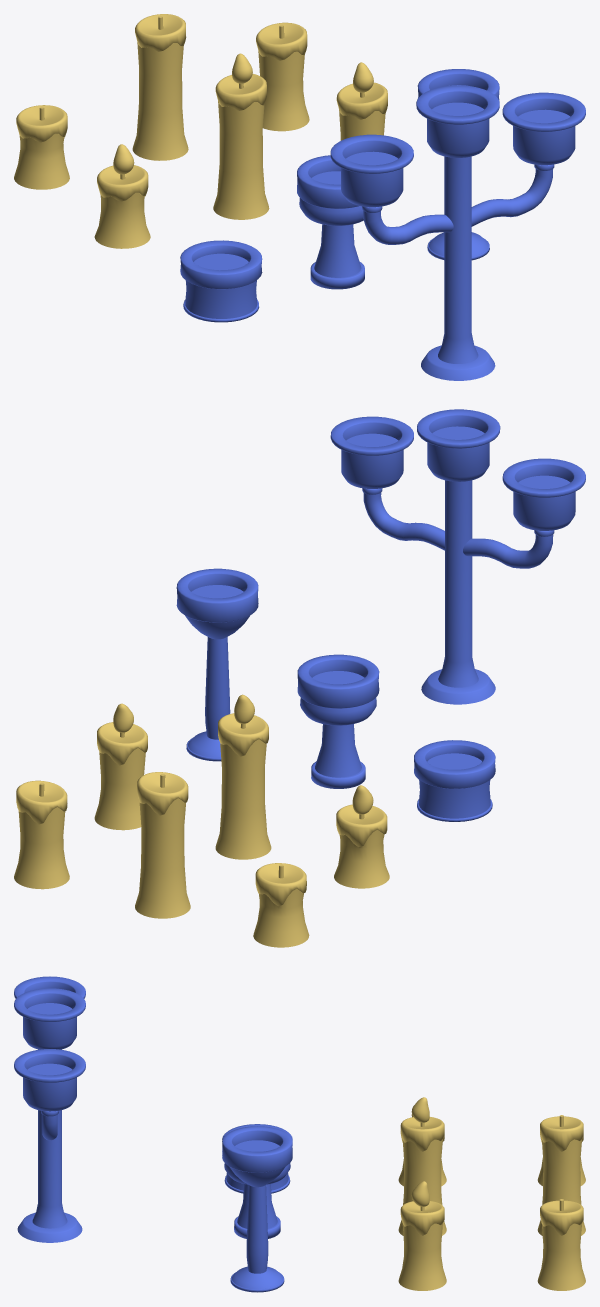
Rendered from Candles.fbx.
3 renders of one model, top to bottom at view 1: azimuth 30°, elevation 25°; view 2: azimuth 150°, elevation 25°; view 3: azimuth 270°, elevation 25°, orthographic. The views are drawn at different scales.
Parts seen in each view (by area): view 1: CandleHolder04, Candle02_Lit, Candle02_Unlit, CandleHolder02, CandleHolder01, Candle01_Unlit, Candle03_Lit, Candle03_Unlit, Candle01_Lit, CandleHolder03; view 2: CandleHolder04, CandleHolder02, CandleHolder03, Candle02_Lit, Candle02_Unlit, CandleHolder01, Candle01_Unlit, Candle01_Lit, Candle03_Lit, Candle03_Unlit; view 3: CandleHolder04, CandleHolder03, Candle01_Lit, Candle01_Unlit, Candle02_Lit, Candle02_Unlit, CandleHolder02, CandleHolder01.
Part boxes in pixels (x1=…): CandleHolder04: x1=330, y1=85, x2=585, y2=380; Candle02_Lit: x1=213, y1=53, x2=269, y2=219; Candle02_Unlit: x1=132, y1=14, x2=188, y2=160; CandleHolder02: x1=297, y1=155, x2=364, y2=289; CandleHolder01: x1=180, y1=240, x2=262, y2=322; Candle01_Unlit: x1=256, y1=22, x2=309, y2=131; Candle03_Lit: x1=94, y1=144, x2=150, y2=248; Candle03_Unlit: x1=14, y1=105, x2=69, y2=189; Candle01_Lit: x1=336, y1=62, x2=387, y2=140; CandleHolder03: x1=417, y1=69, x2=499, y2=260; CandleHolder04: x1=330, y1=409, x2=585, y2=704; CandleHolder02: x1=297, y1=654, x2=379, y2=788; CandleHolder03: x1=176, y1=568, x2=258, y2=761; Candle02_Lit: x1=215, y1=694, x2=271, y2=859; Candle02_Unlit: x1=135, y1=772, x2=190, y2=918; CandleHolder01: x1=414, y1=740, x2=495, y2=821; Candle01_Unlit: x1=14, y1=780, x2=69, y2=889; Candle01_Lit: x1=94, y1=703, x2=147, y2=830; Candle03_Lit: x1=334, y1=785, x2=389, y2=888; Candle03_Unlit: x1=253, y1=863, x2=309, y2=947; CandleHolder04: x1=14, y1=976, x2=85, y2=1242; CandleHolder03: x1=222, y1=1126, x2=292, y2=1292; Candle01_Lit: x1=398, y1=1181, x2=446, y2=1290; Candle01_Unlit: x1=537, y1=1199, x2=585, y2=1290; Candle02_Lit: x1=398, y1=1097, x2=446, y2=1235; Candle02_Unlit: x1=537, y1=1115, x2=585, y2=1235; CandleHolder02: x1=222, y1=1124, x2=292, y2=1238; CandleHolder01: x1=222, y1=1147, x2=292, y2=1193.
Size of the model in its own units: 979 by 799 by 1823.
